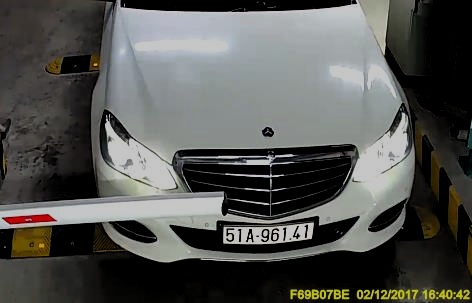plate: (219, 218, 320, 242)
